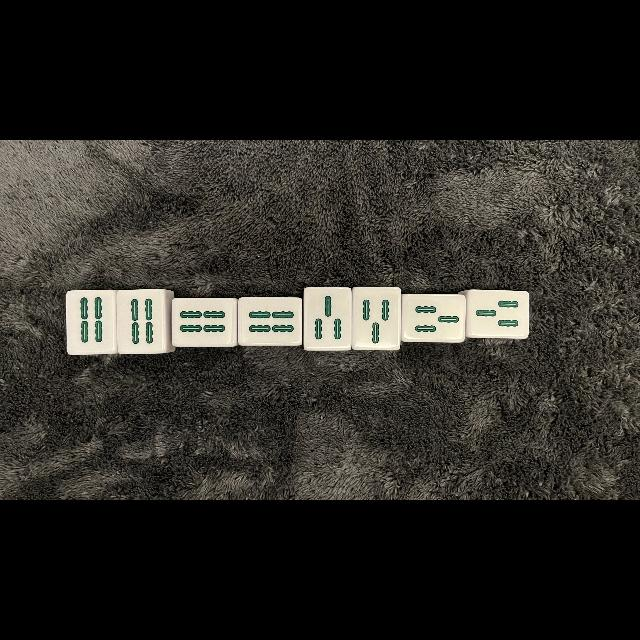b3: (467, 290, 529, 338), (403, 295, 465, 341), (354, 288, 400, 348), (306, 288, 350, 348)
b4: (239, 298, 301, 346), (67, 292, 115, 352), (118, 292, 166, 352), (173, 298, 234, 344)
